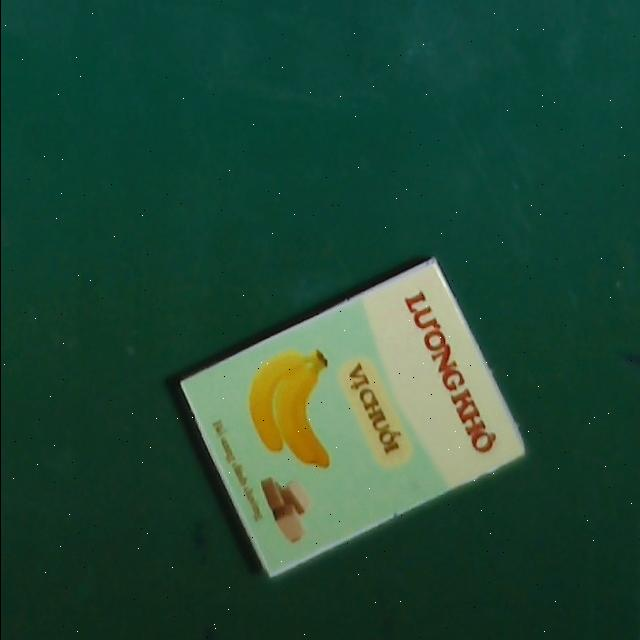chuoi: (174, 256, 530, 580)
